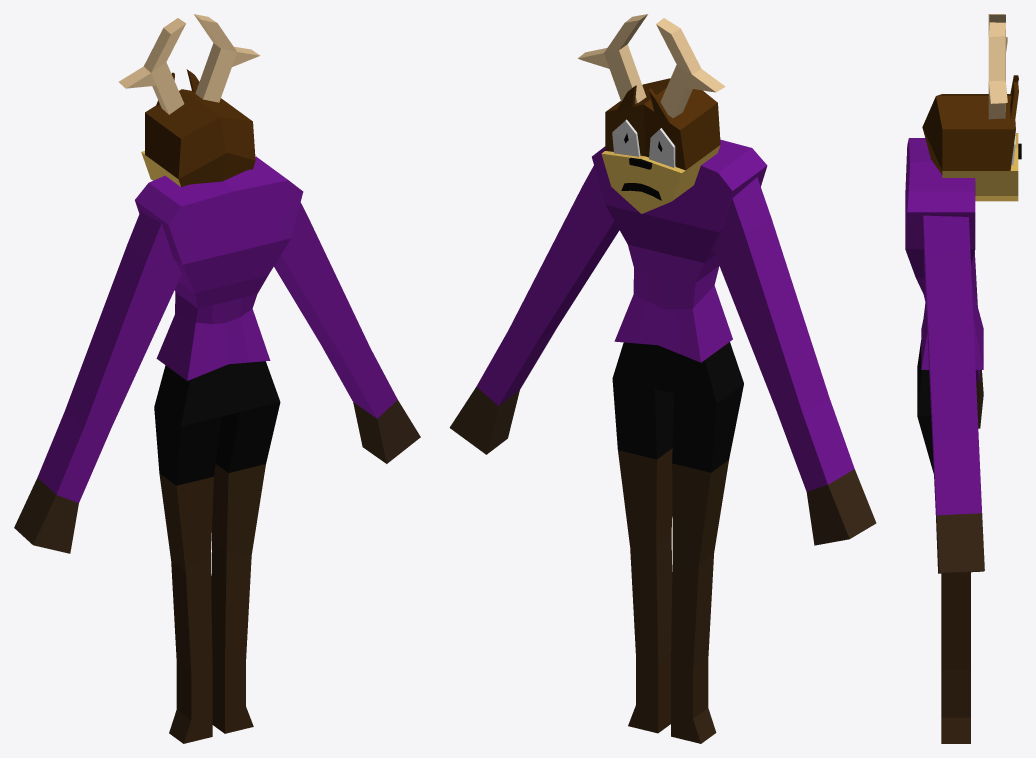
Rendered from HorrorModel.fbx.
The picture shows the model from 3 angles, left to right: view 1: azimuth 30°, elevation 25°; view 2: azimuth 150°, elevation 25°; view 3: azimuth 270°, elevation 25°; orthographic projection. The views are drawn at different scales.
Parts seen in each view (by area): view 1: LowerBody, Torso, Arm, Face, Arm.001; view 2: LowerBody, Arm, Torso, Face, Arm.001; view 3: Arm.001, Face, LowerBody, Torso, Arm.
Part boxes in pixels (box(x1,y1,x2,y2)): LowerBody: box(154, 361, 280, 743); Torso: box(135, 156, 303, 380); Arm: box(14, 211, 181, 553); Face: box(119, 14, 260, 187); Arm.001: box(274, 202, 420, 463); LowerBody: box(612, 342, 743, 743); Arm: box(712, 177, 876, 545); Torso: box(592, 139, 767, 362); Face: box(578, 14, 725, 213); Arm.001: box(449, 166, 619, 454); Arm.001: box(923, 215, 984, 573); Face: box(922, 14, 1021, 201); LowerBody: box(917, 340, 970, 743); Torso: box(905, 138, 983, 369); Arm: box(971, 252, 983, 428).
Bounding box in the file's own units: 214 × 367 × 54.76.
